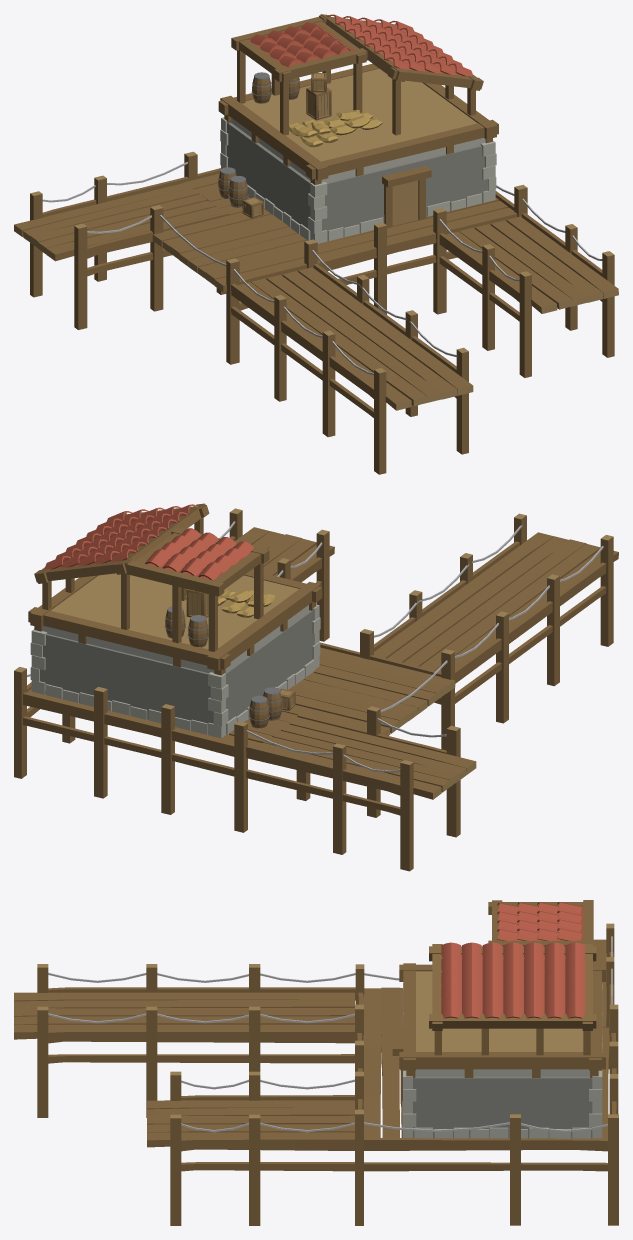
The model's file is Docks.glb.
3 views of the same model, one above another, from view 1: azimuth 30°, elevation 25°; view 2: azimuth 150°, elevation 25°; view 3: azimuth 270°, elevation 25° (orthographic). The views are drawn at different scales.
Visible parts, largest first — view 1: Port_SecondAge_Level2; view 2: Port_SecondAge_Level2; view 3: Port_SecondAge_Level2.
Boxes of the visible parts, x1,y1,x2,y2 form: Port_SecondAge_Level2: (14, 14, 618, 474); Port_SecondAge_Level2: (14, 503, 618, 871); Port_SecondAge_Level2: (14, 900, 618, 1225).
Bounding box in the file's own units: 2.3 × 1.25 × 2.88.
